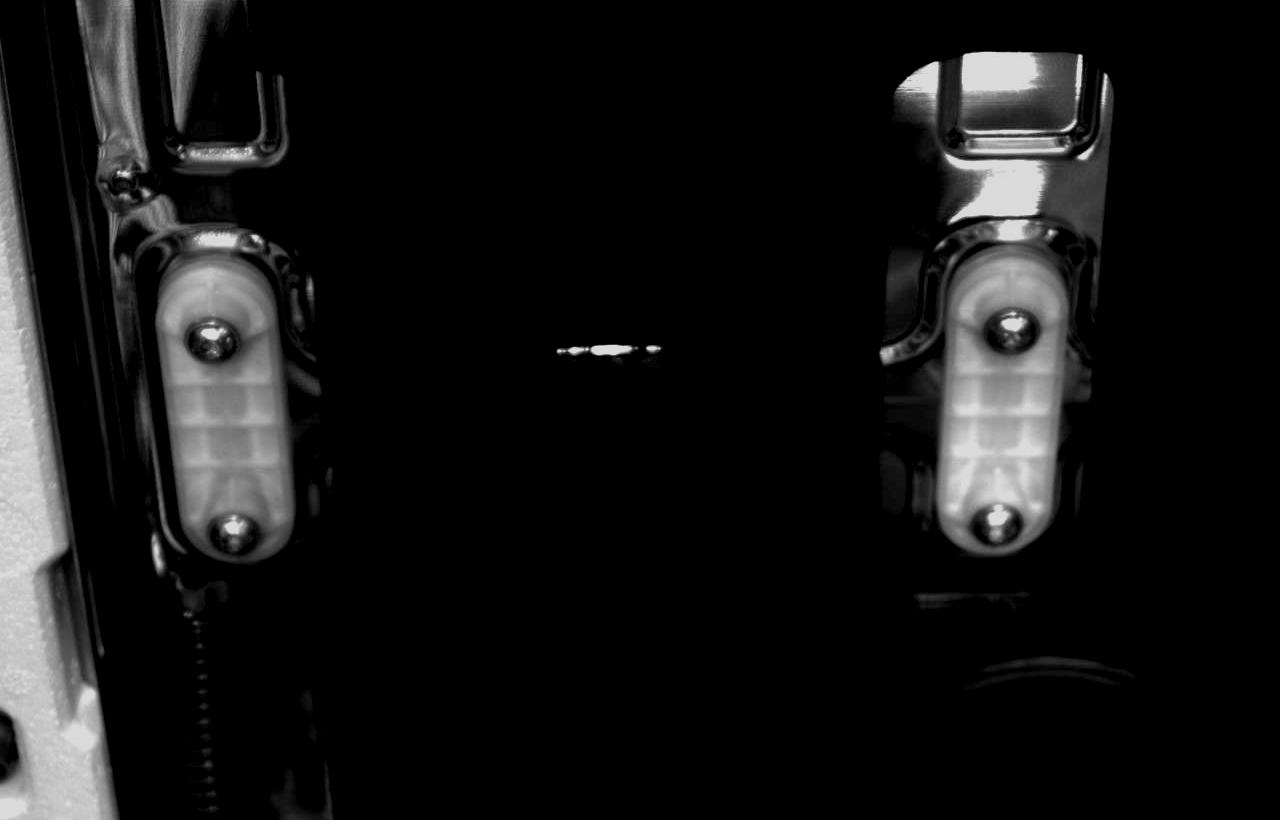vida-ok: (181, 311, 253, 378), (964, 485, 1030, 554), (973, 298, 1040, 365), (203, 505, 269, 564)
